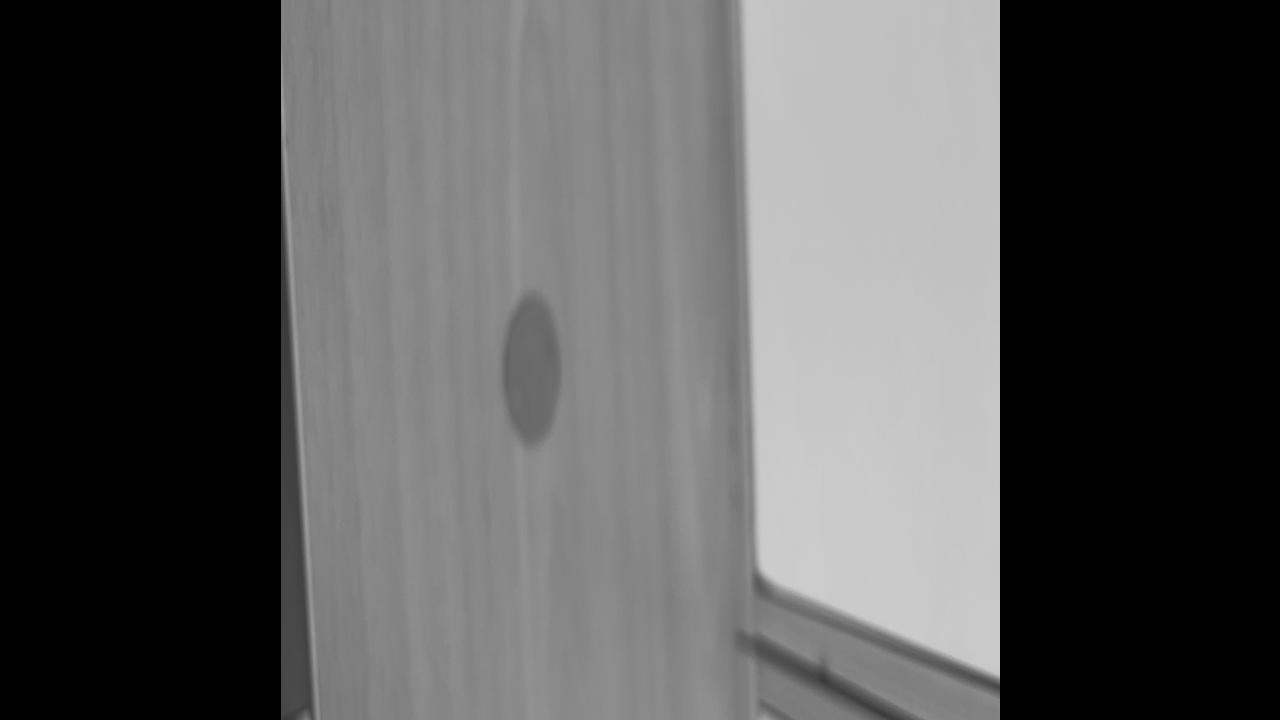coin: (501, 288, 563, 452)
